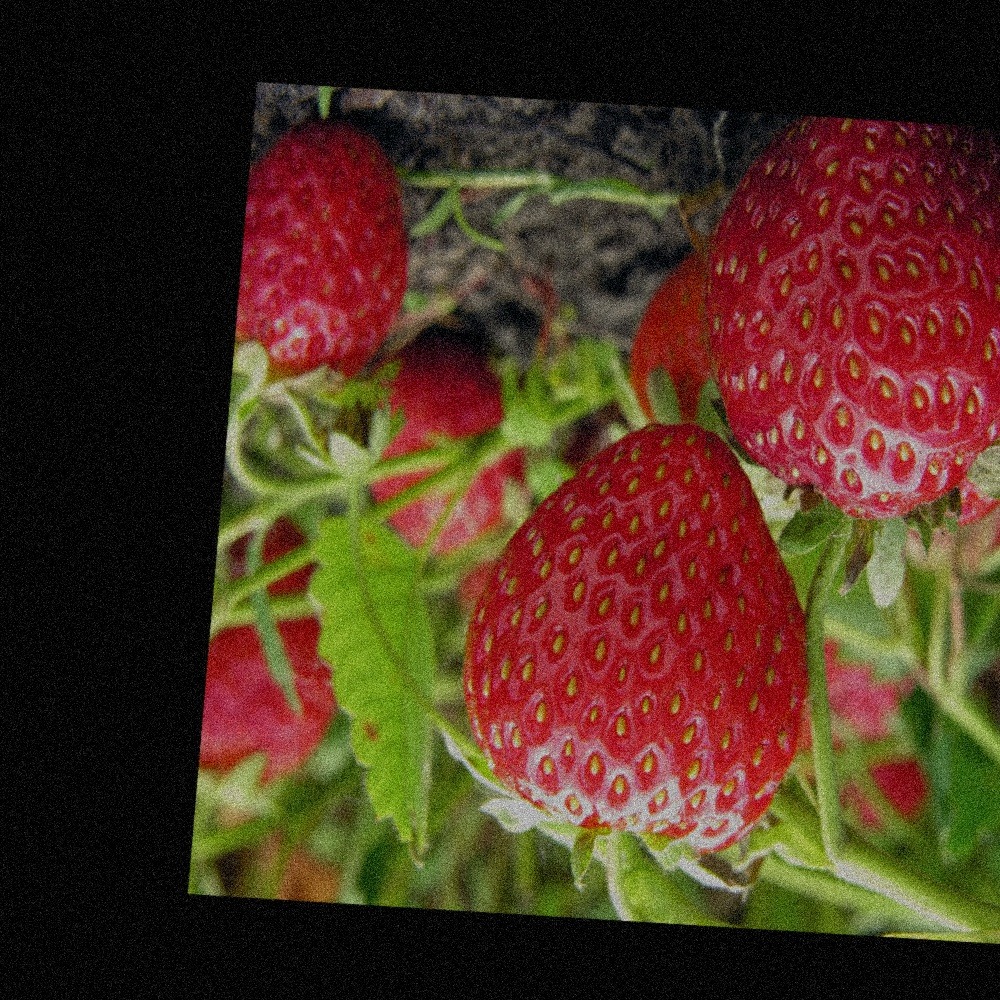ripe_strawberry: (444, 407, 846, 873), (675, 109, 1000, 566), (230, 106, 431, 418), (195, 508, 355, 821), (355, 317, 545, 564), (614, 238, 732, 427)
